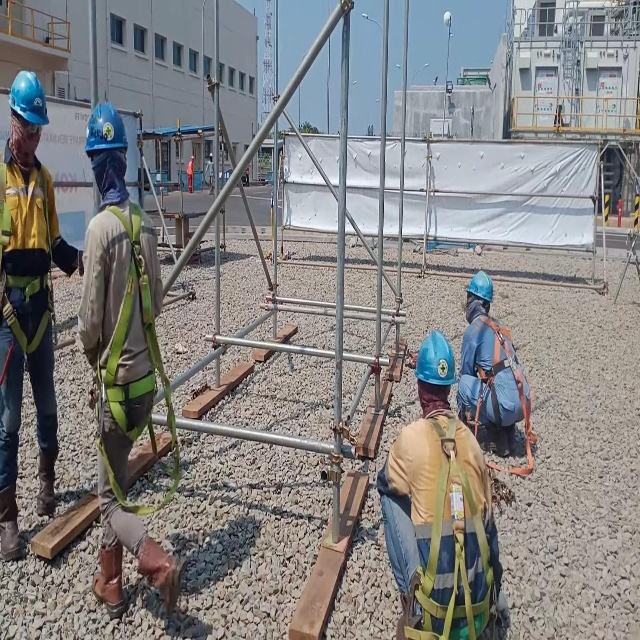Arnes_seguridad: (92, 207, 183, 518), (399, 423, 498, 640), (471, 312, 542, 479), (0, 152, 53, 350)
